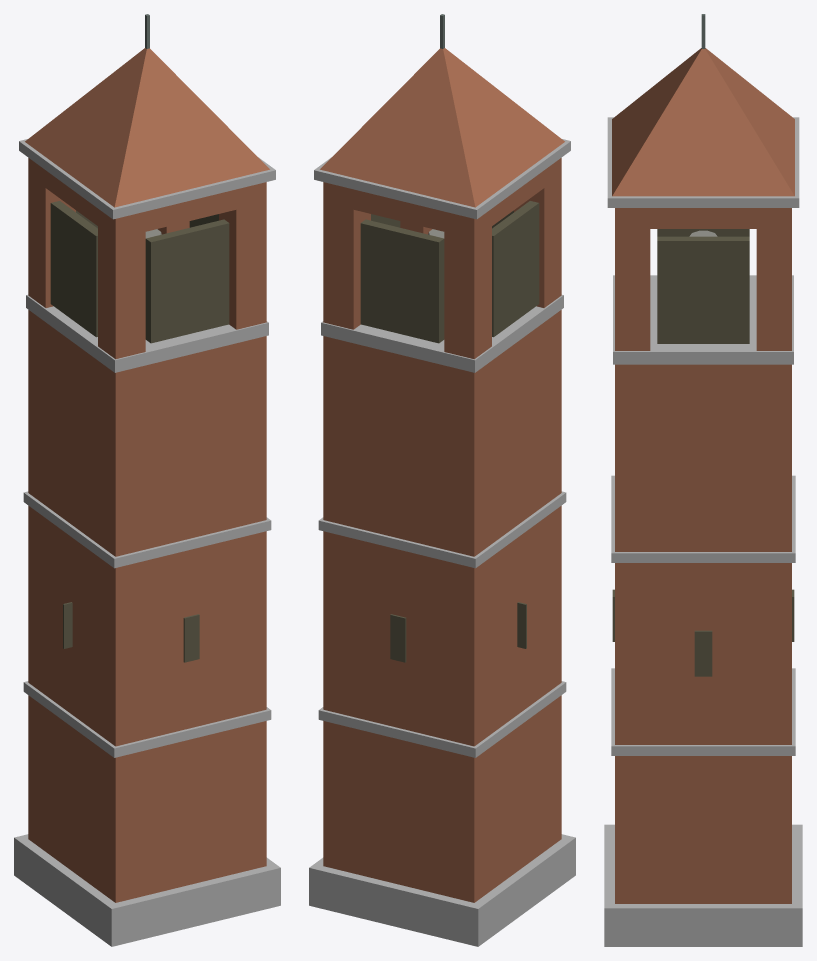
Rendered from SM_Campanario_v0_Ladrillo_LOD0.fbx.
3 views of the same model, side by side, from view 1: azimuth 30°, elevation 25°; view 2: azimuth 150°, elevation 25°; view 3: azimuth 270°, elevation 25° (orthographic).
Visible parts, largest first — view 1: SM_pueblo_valenciano_v20_LOD0; view 2: SM_pueblo_valenciano_v20_LOD0; view 3: SM_pueblo_valenciano_v20_LOD0.
Part boxes in pixels (x1=…): SM_pueblo_valenciano_v20_LOD0: x1=14, y1=14, x2=280, y2=946; SM_pueblo_valenciano_v20_LOD0: x1=309, y1=14, x2=575, y2=946; SM_pueblo_valenciano_v20_LOD0: x1=604, y1=14, x2=802, y2=946.
Bounding box in the file's own units: 5.6 × 27.7 × 5.6.
